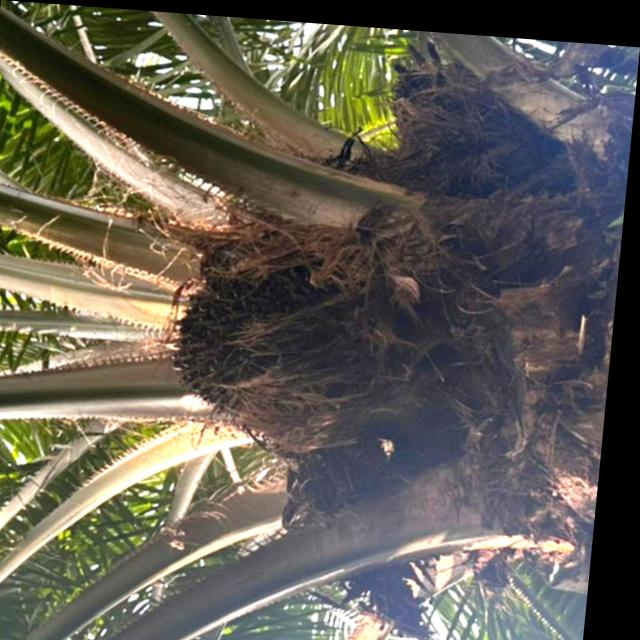almost: (166, 215, 403, 451)
